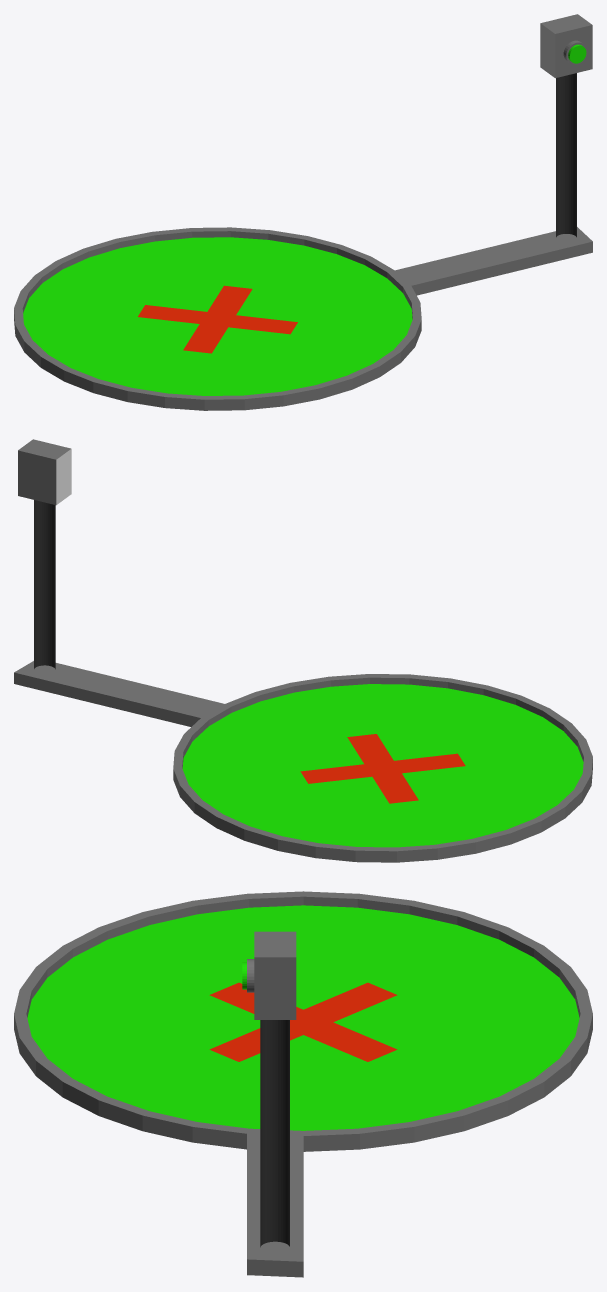
Rendered from itemSpawner.fbx.
The picture shows the model from 3 angles, top to bottom: view 1: azimuth 30°, elevation 25°; view 2: azimuth 150°, elevation 25°; view 3: azimuth 270°, elevation 25°; orthographic projection. The views are drawn at different scales.
Parts seen in each view (by area): view 1: ItemSpawner; view 2: ItemSpawner; view 3: ItemSpawner.
Boxes of the visible parts, left/top/right/bottom form: ItemSpawner: left=14, top=14, right=592, bottom=410; ItemSpawner: left=14, top=439, right=592, bottom=862; ItemSpawner: left=14, top=891, right=592, bottom=1277.
Size of the model in its own units: 303 by 122 by 200.
